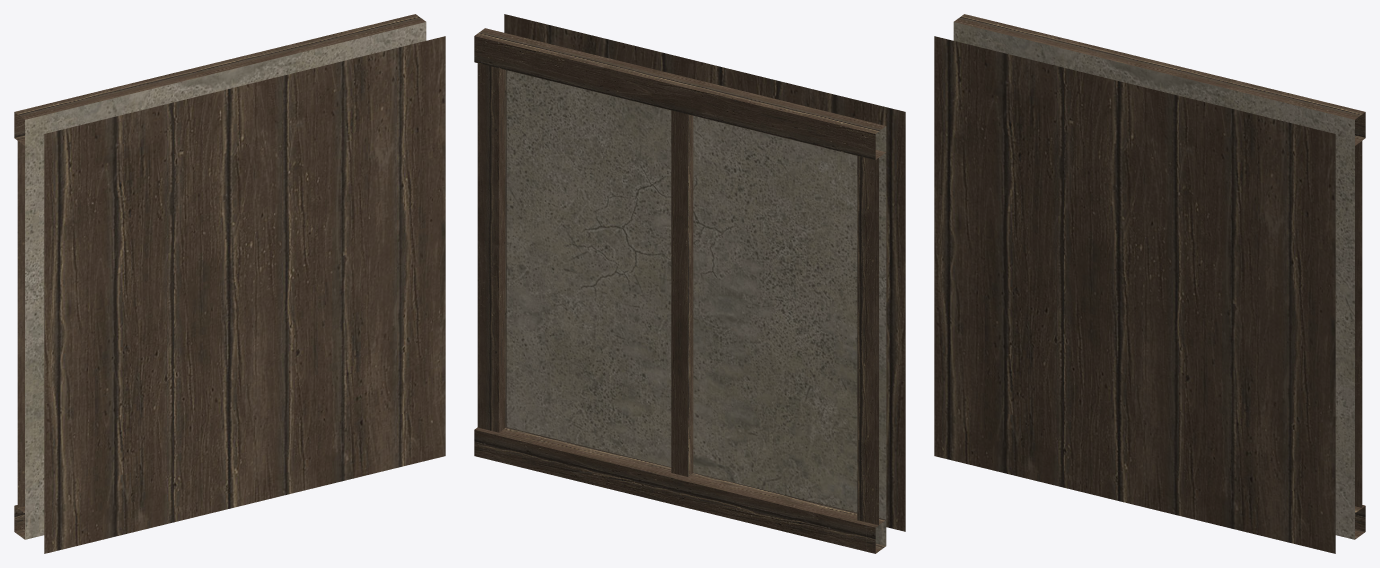
The model's file is ARC1010308.fbx.
The picture shows the model from 3 angles, left to right: view 1: azimuth 30°, elevation 25°; view 2: azimuth 150°, elevation 25°; view 3: azimuth 330°, elevation 25°; orthographic projection.
Parts seen in each view (by area): view 1: smARC1010308; view 2: smARC1010308; view 3: smARC1010308.
Boxes of the visible parts, x1,y1,x2,y2 form: smARC1010308: (14,14,445,553); smARC1010308: (474,14,905,553); smARC1010308: (934,14,1365,553).
Bounding box in the file's own units: 268 × 268 × 34.9.
Materials: 1 (1 with a texture image).
